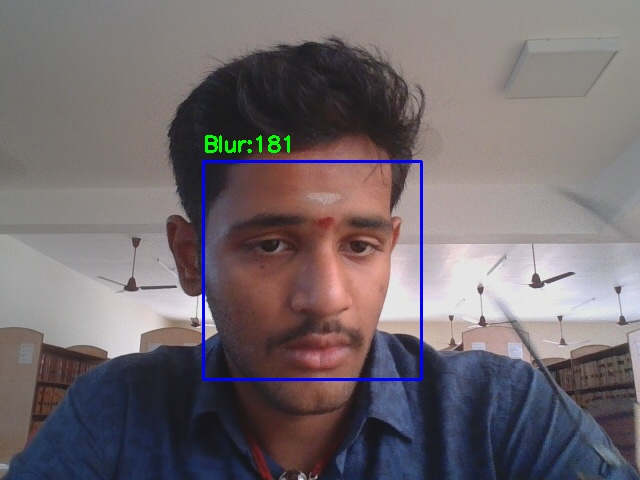real: (203, 161, 421, 379)
